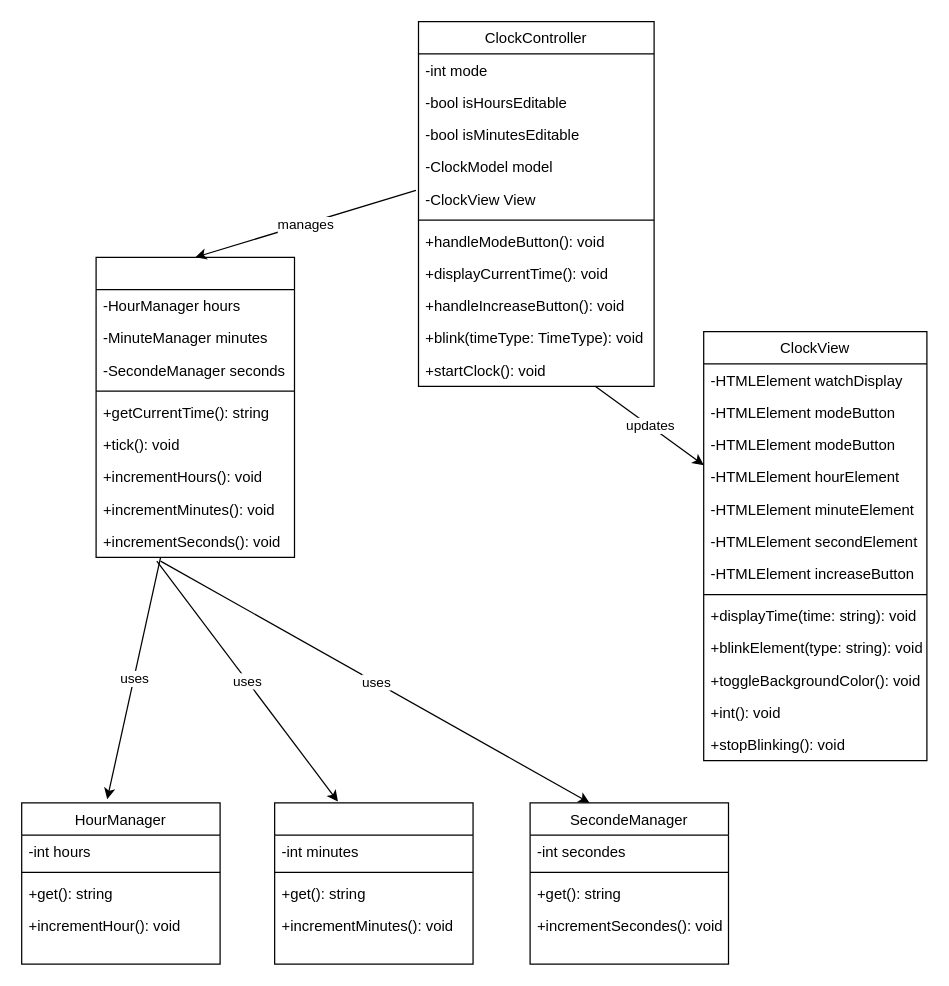
This 949x986 diagram has some shape labels left out. Each missing label, with the box of its shape:
ClockModel: (95, 256, 294, 557)
MinuteManager: (273, 802, 473, 964)
